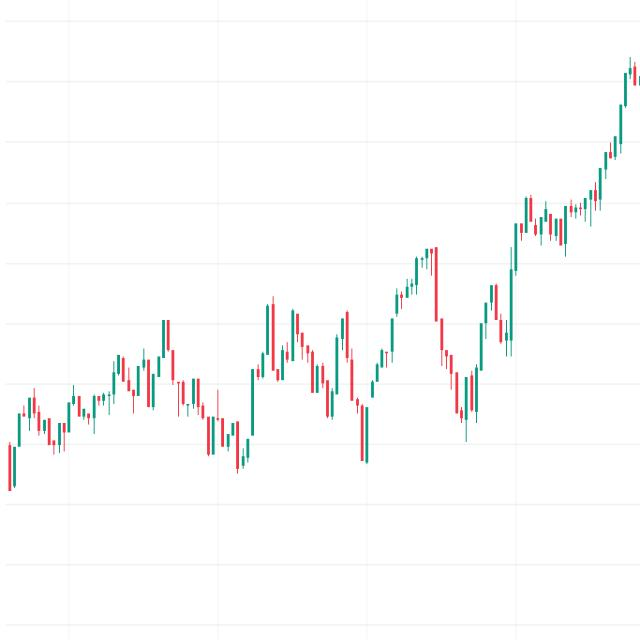Triple-Top: (240, 282, 368, 416)
